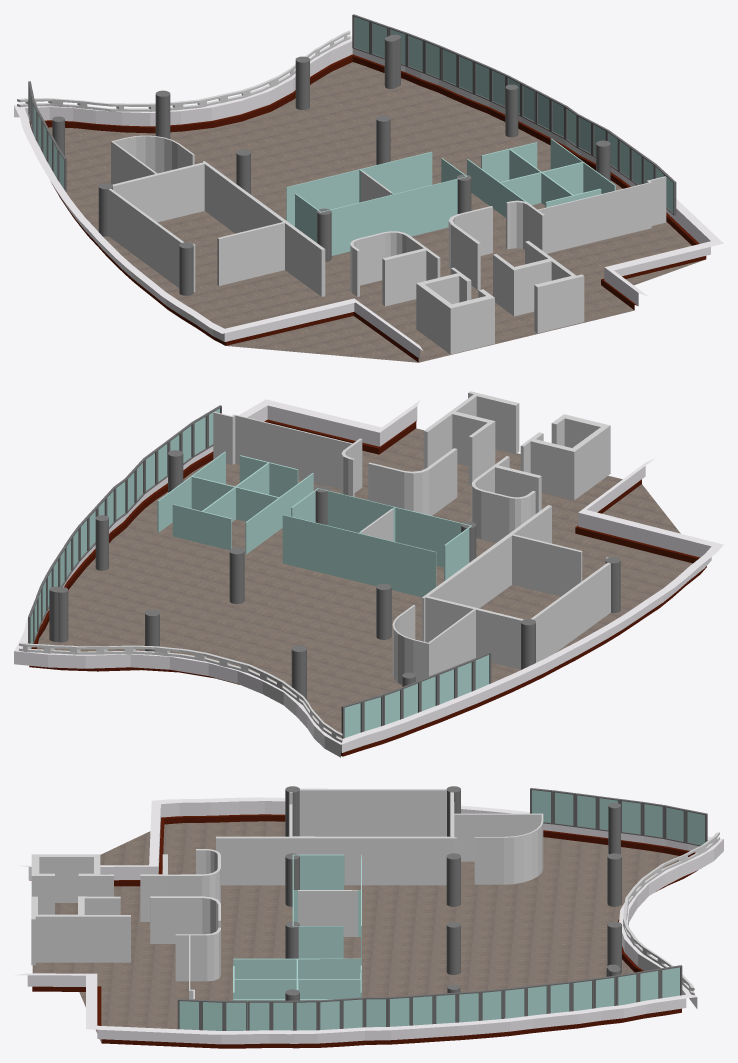
File: escalado.fbx
3 views of the same model, one above another, from view 1: azimuth 30°, elevation 25°; view 2: azimuth 150°, elevation 25°; view 3: azimuth 270°, elevation 25° (orthographic). The views are drawn at different scales.
Parts seen in each view (by area): view 1: planta.003, planta, Plane.001, Plane, Plane.004, Circle, Plane.005, Plane.002, Plane.006, planta.002, Plane.003; view 2: planta.003, planta, Plane.001, Plane, Plane.004, Plane.005, Circle, Plane.002, Plane.006, planta.002, Plane.003; view 3: planta.003, Plane, planta, Plane.001, Circle, Plane.006, Plane.005, Plane.004, Plane.003, planta.002, Plane.031, Plane.033 (+27 smaller).
Part boxes in pixels (<box>): planta.003: <box>31,62,704,362</box>; planta: <box>14,36,723,362</box>; Plane.001: <box>350,200,584,354</box>; Plane: <box>108,135,325,296</box>; Plane.004: <box>286,151,467,255</box>; Circle: <box>52,34,610,295</box>; Plane.005: <box>467,138,615,217</box>; Plane.002: <box>538,176,666,253</box>; Plane.006: <box>28,14,676,215</box>; planta.002: <box>17,30,350,111</box>; Plane.003: <box>361,170,392,201</box>; planta.003: <box>37,428,692,737</box>; planta: <box>14,399,723,757</box>; Plane.001: <box>341,391,610,542</box>; Plane: <box>392,505,610,684</box>; Plane.004: <box>282,488,471,597</box>; Plane.005: <box>157,451,313,554</box>; Circle: <box>49,450,620,700</box>; Plane.002: <box>213,412,352,488</box>; Plane.006: <box>28,405,491,738</box>; planta.002: <box>19,642,342,742</box>; Plane.003: <box>360,509,393,541</box>; planta.003: <box>32,821,679,1042</box>; Plane: <box>216,788,543,885</box>; planta: <box>14,797,723,1048</box>; Plane.001: <box>31,849,220,981</box>; Circle: <box>285,786,621,1000</box>; Plane.006: <box>177,788,707,1030</box>; Plane.005: <box>233,958,361,1029</box>; Plane.004: <box>292,854,361,965</box>; Plane.003: <box>298,890,357,936</box>; planta.002: <box>623,832,719,999</box>; Plane.031: <box>296,1002,316,1030</box>; Plane.033: <box>249,1002,269,1030</box>.
Size of the model in its own units: 2.8 by 0.2647 by 3.55.
6 materials, 2 textured.
